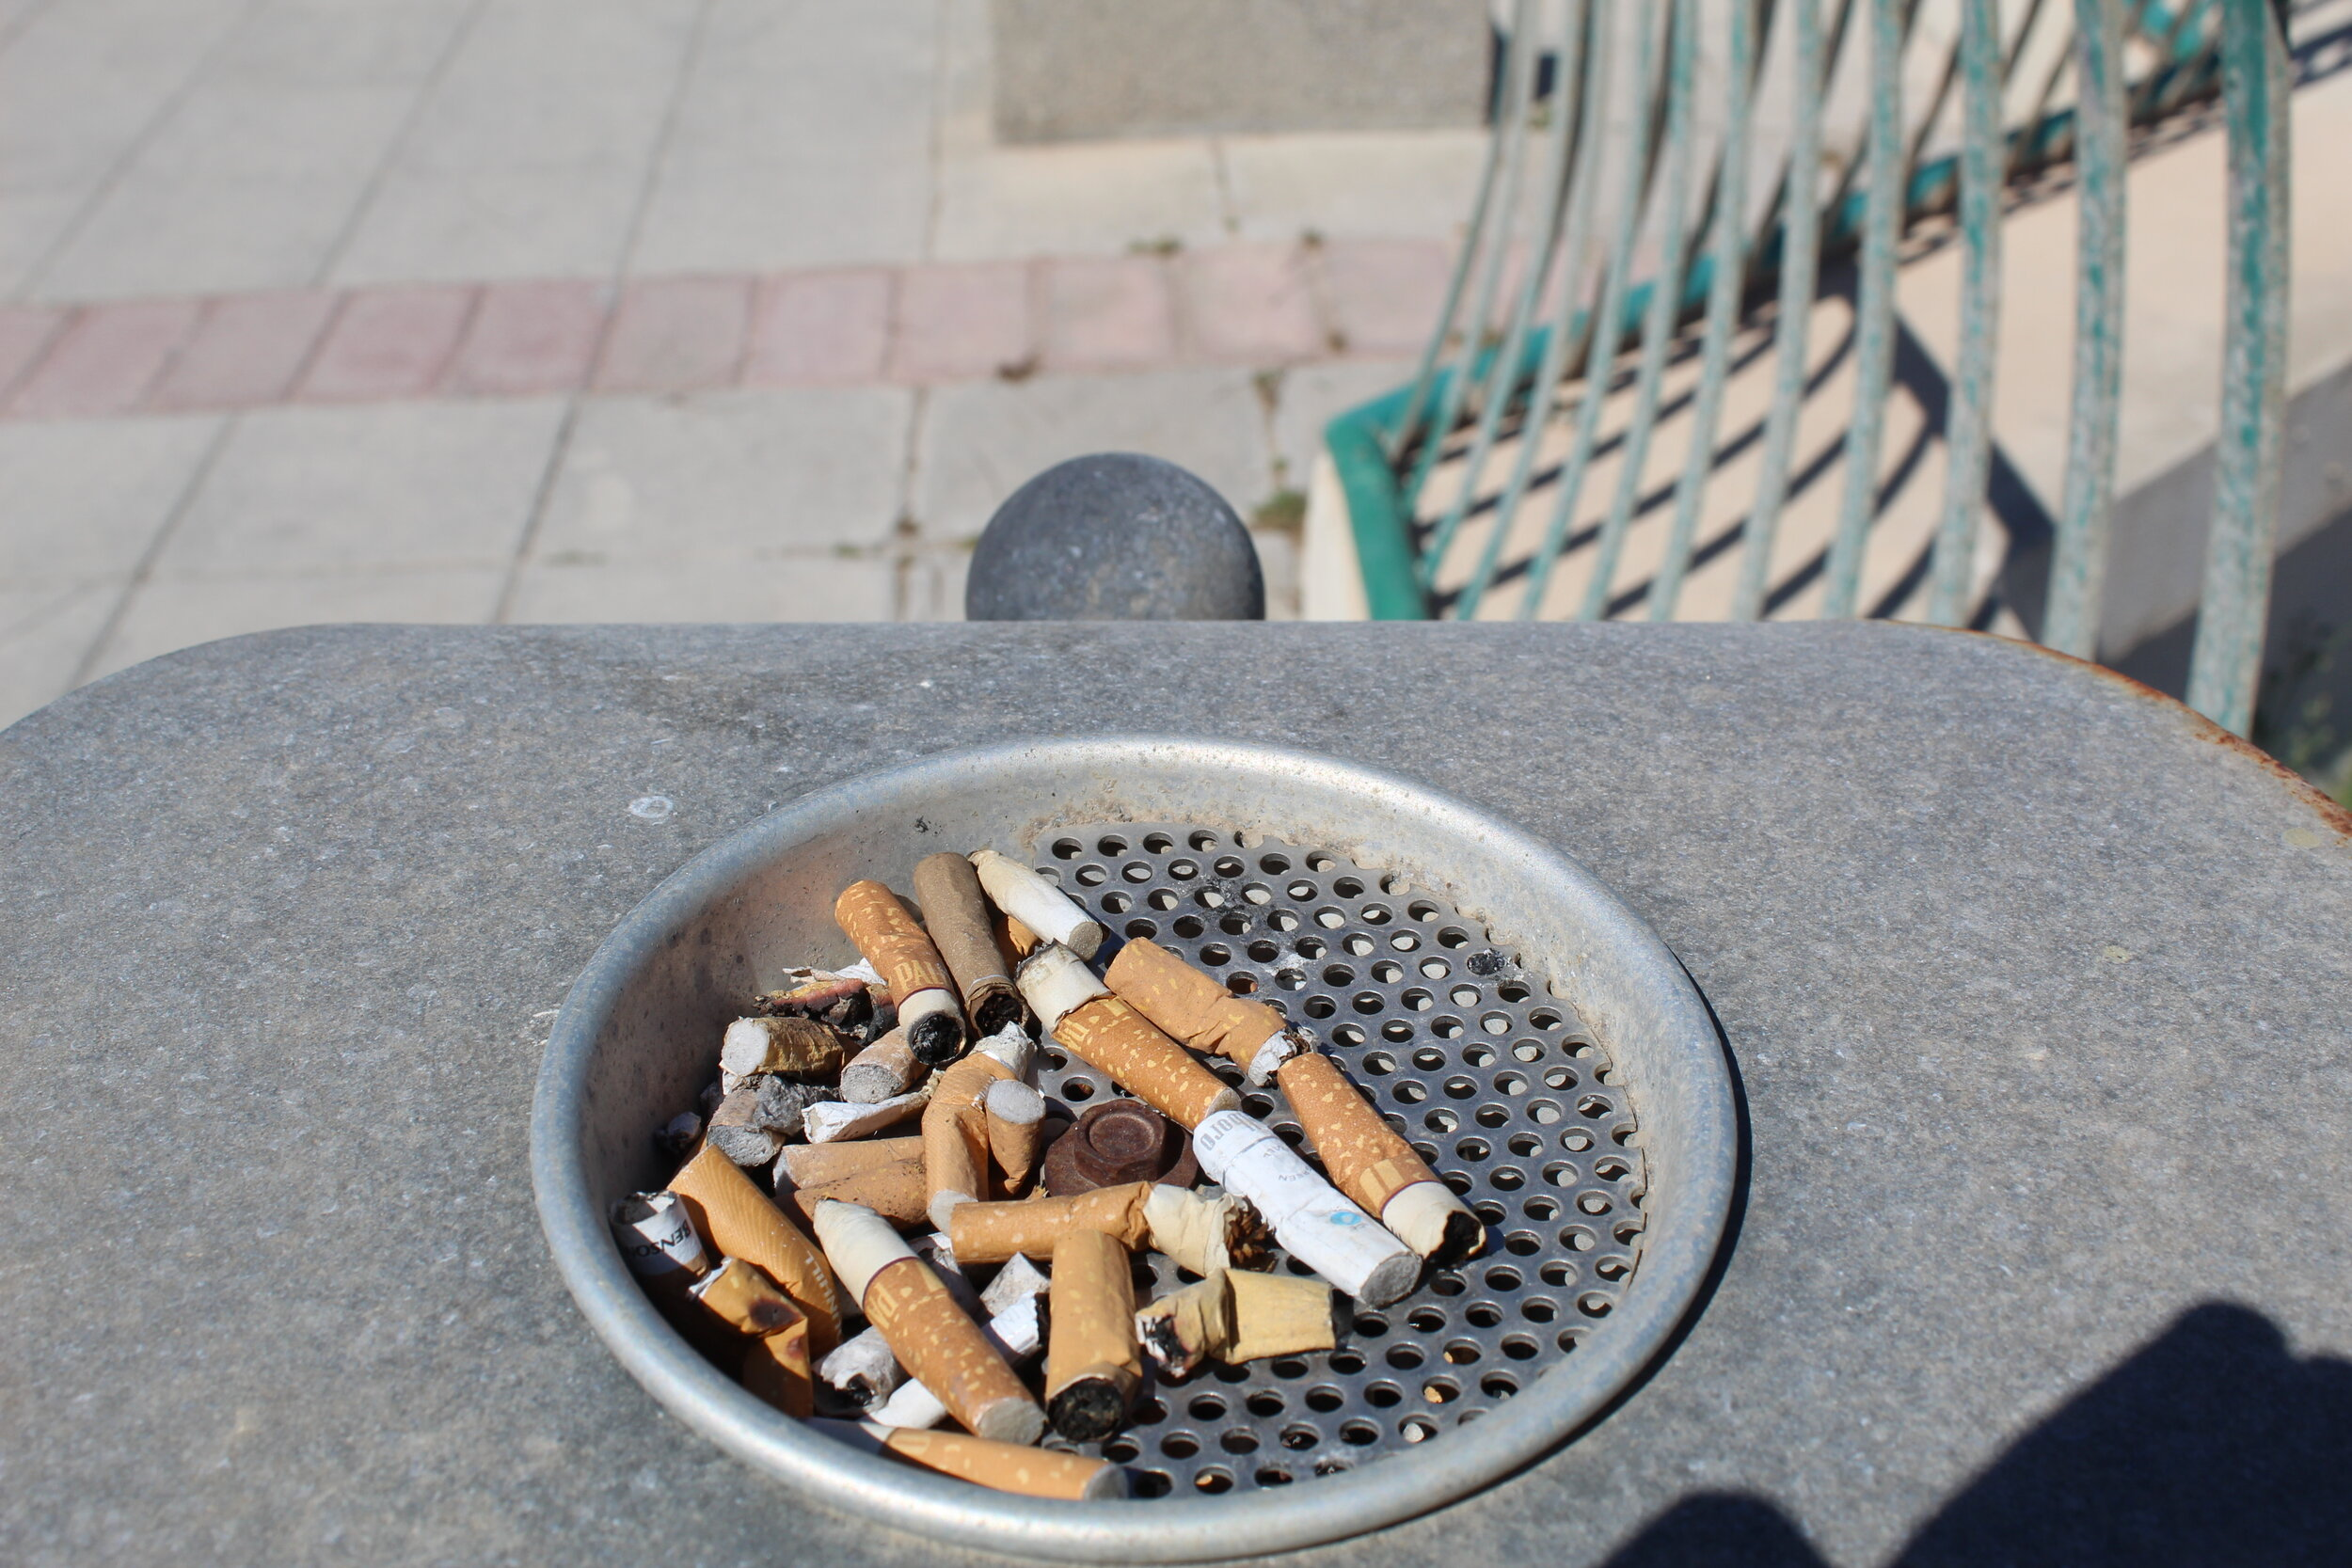trash: (807, 1190, 1050, 1458), (605, 1134, 849, 1393), (1186, 1099, 1438, 1314), (1274, 1032, 1486, 1276), (1010, 934, 1244, 1137), (798, 1405, 1136, 1507), (1094, 931, 1311, 1088), (1109, 1263, 1354, 1386), (1029, 1230, 1169, 1440), (831, 870, 970, 1076), (906, 847, 1048, 1039), (700, 952, 845, 1108), (968, 847, 1111, 966), (985, 1073, 1045, 1207)
